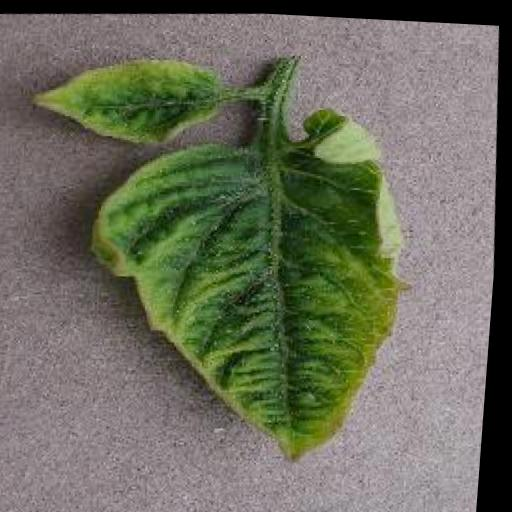Yellow Leaf Curl Virus: (72, 87, 424, 474), (30, 50, 233, 150)
